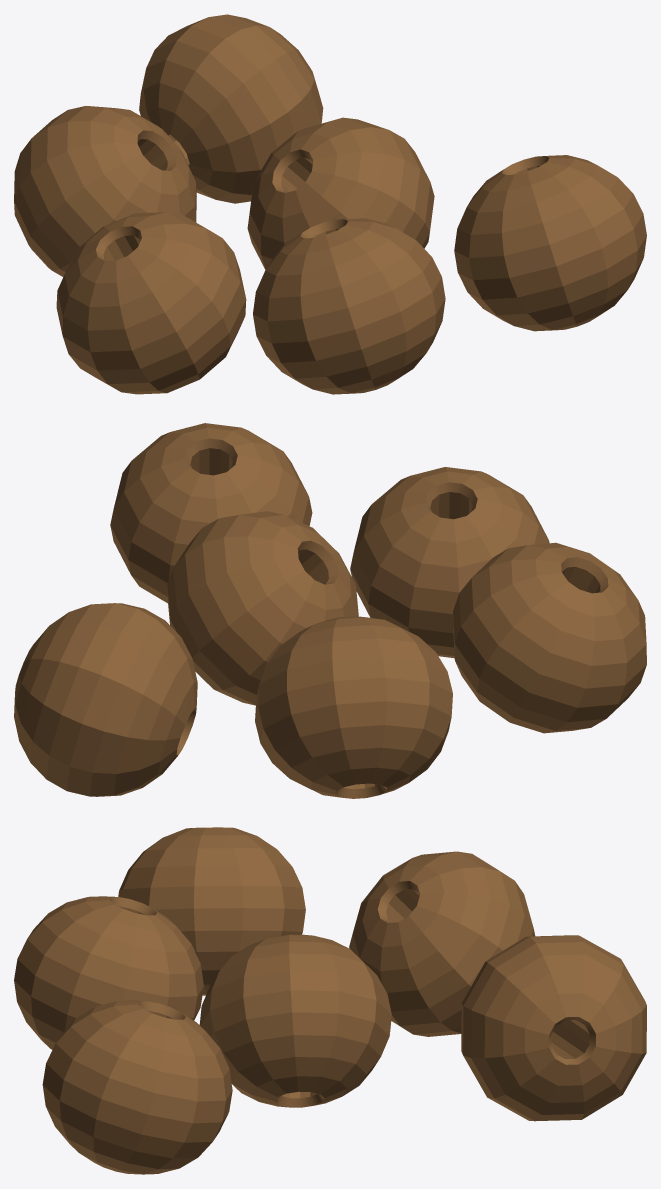
Rendered from Wooden Beads.fbx.
3 views of the same model, one above another, from view 1: azimuth 30°, elevation 25°; view 2: azimuth 150°, elevation 25°; view 3: azimuth 270°, elevation 25° (orthographic). The views are drawn at different scales.
Parts seen in each view (by area): view 1: Wooden_Beads1, Wooden_Beads3, Wooden_Beads5, Wooden_Beads4, Wooden_Beads2, Wooden_Beads6; view 2: Wooden_Beads1, Wooden_Beads2, Wooden_Beads4, Wooden_Beads6, Wooden_Beads3, Wooden_Beads5; view 3: Wooden_Beads4, Wooden_Beads5, Wooden_Beads6, Wooden_Beads2, Wooden_Beads3, Wooden_Beads1.
Boxes of the visible parts, x1,y1,x2,y2 form: Wooden_Beads1: [56, 212, 246, 394]; Wooden_Beads3: [253, 218, 445, 394]; Wooden_Beads5: [454, 155, 646, 331]; Wooden_Beads4: [139, 14, 323, 203]; Wooden_Beads2: [14, 106, 196, 276]; Wooden_Beads6: [247, 117, 434, 269]; Wooden_Beads1: [453, 542, 646, 733]; Wooden_Beads2: [255, 616, 452, 798]; Wooden_Beads4: [14, 603, 197, 796]; Wooden_Beads6: [167, 511, 358, 705]; Wooden_Beads3: [350, 467, 549, 658]; Wooden_Beads5: [110, 423, 312, 603]; Wooden_Beads4: [461, 935, 646, 1121]; Wooden_Beads5: [42, 1000, 232, 1174]; Wooden_Beads6: [199, 934, 391, 1107]; Wooden_Beads2: [349, 851, 535, 1036]; Wooden_Beads3: [14, 896, 203, 1049]; Wooden_Beads1: [118, 827, 305, 995].
Bounding box in the file's own units: 4.9 × 1.53 × 5.15.
